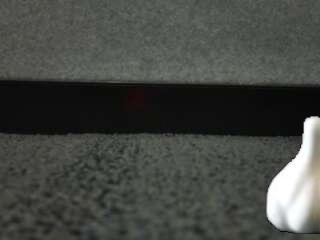Garlic: (266, 115, 319, 236)
